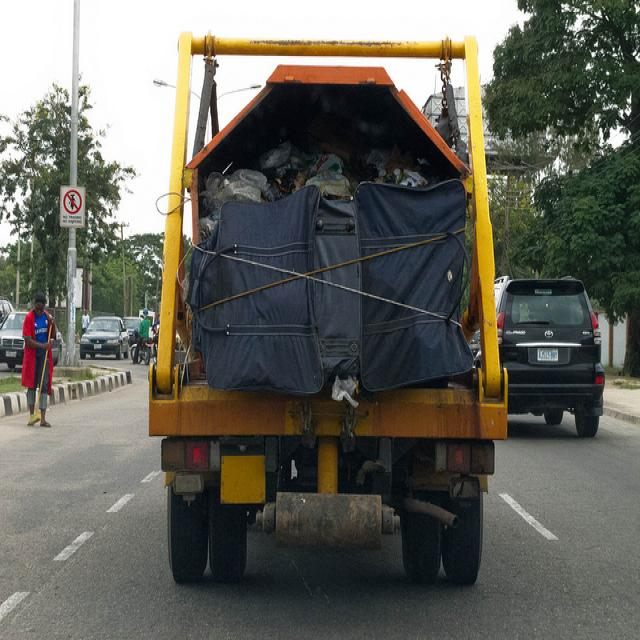motor: (130, 328, 150, 366), (152, 321, 160, 364)
